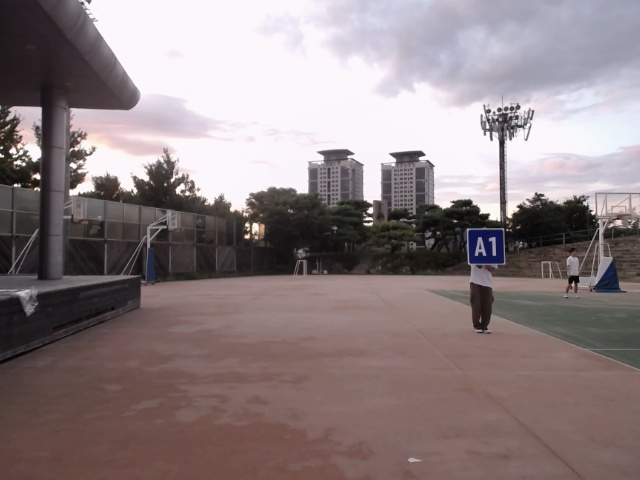delivery_a1: (467, 228, 505, 265)
